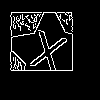X: (25, 30, 69, 83)
